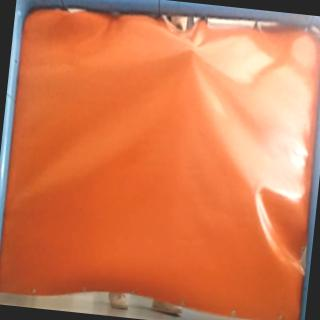Hit-hRxx: (183, 42, 199, 58)
